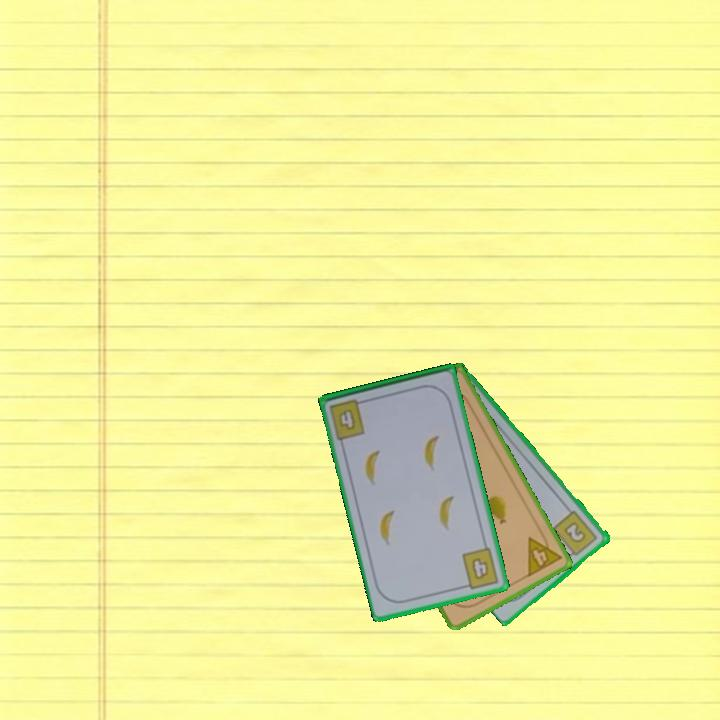2b: (550, 507, 601, 561)
4b: (458, 544, 502, 592), (326, 395, 370, 443)
4p: (524, 527, 565, 580)
